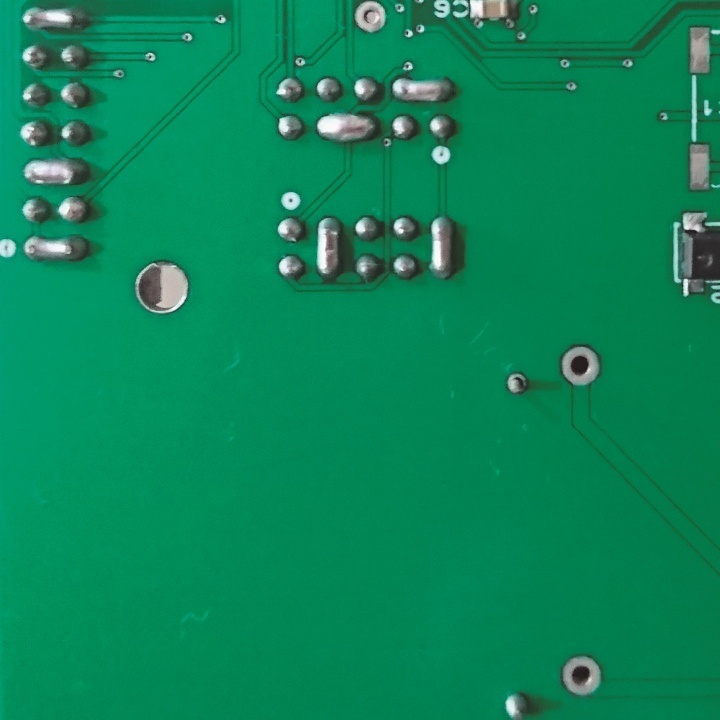F: (556, 342, 604, 389), (559, 652, 604, 698), (350, 1, 390, 38), (503, 368, 532, 397)
P: (386, 75, 461, 109), (312, 213, 347, 285), (311, 109, 379, 146), (21, 230, 93, 264), (21, 157, 93, 189), (427, 213, 457, 283), (18, 7, 91, 35)
